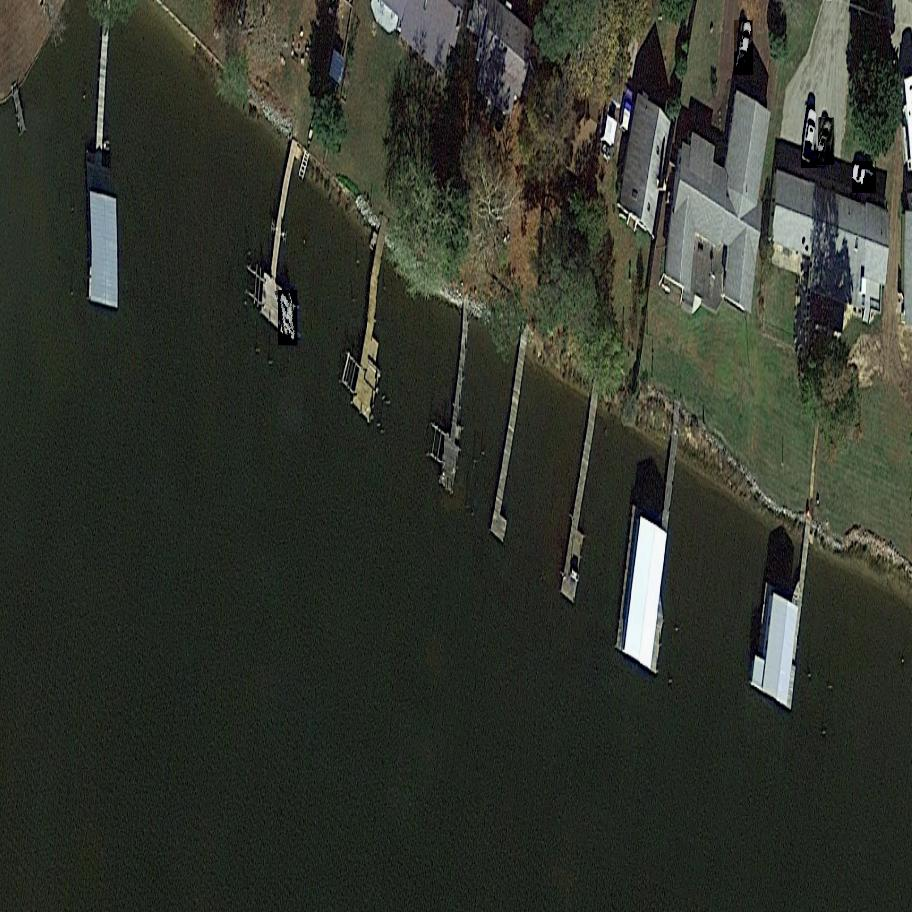ship: (278, 289, 299, 347)
small-vehicle: (810, 118, 837, 165), (800, 105, 819, 168), (734, 21, 754, 76), (851, 161, 877, 193)
